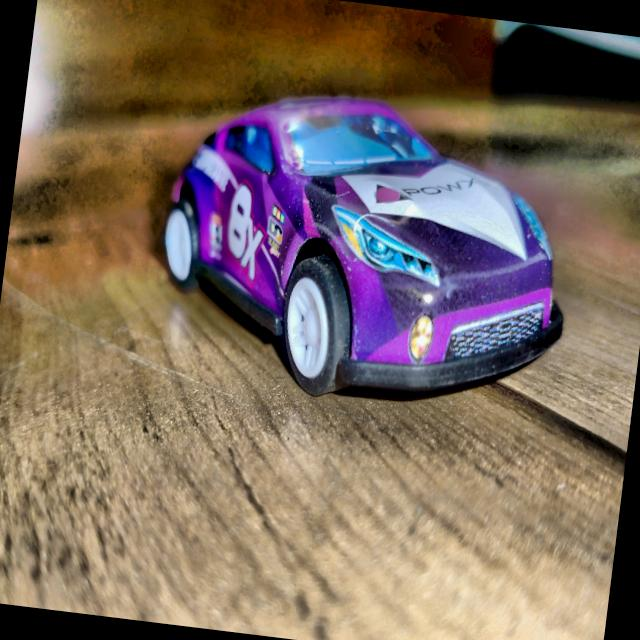Car: (147, 80, 585, 423)
